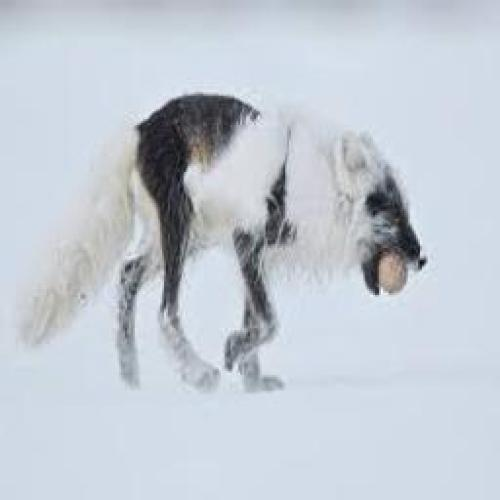arctic_fox-endangered: (20, 88, 431, 401)
